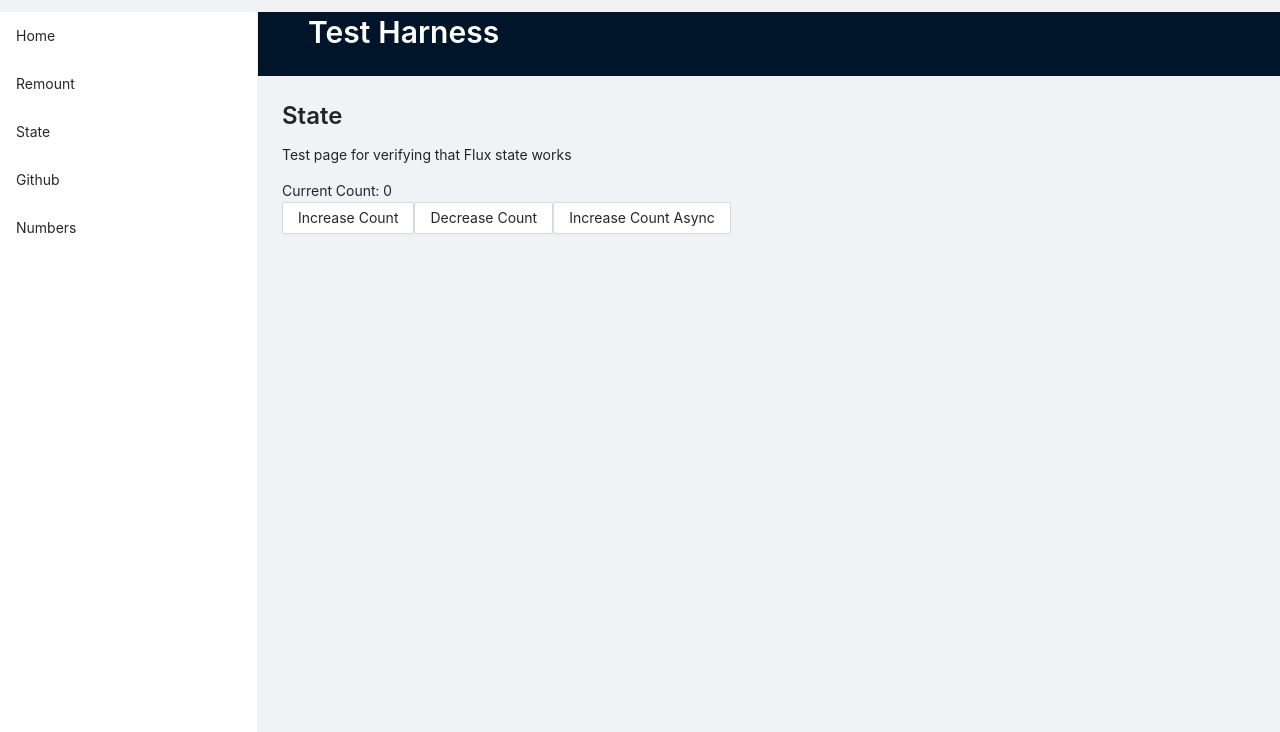
Test: State › Shows the error correctly
The image size is (1280, 732).
Check: the text with class "cy-count" shows "0", box [282,182,392,199]
What coordinates should you click on to do the following:
click the button with class "cy-inc-async"
I would click on:
 (642, 218)
Its box is [553,202,731,234].
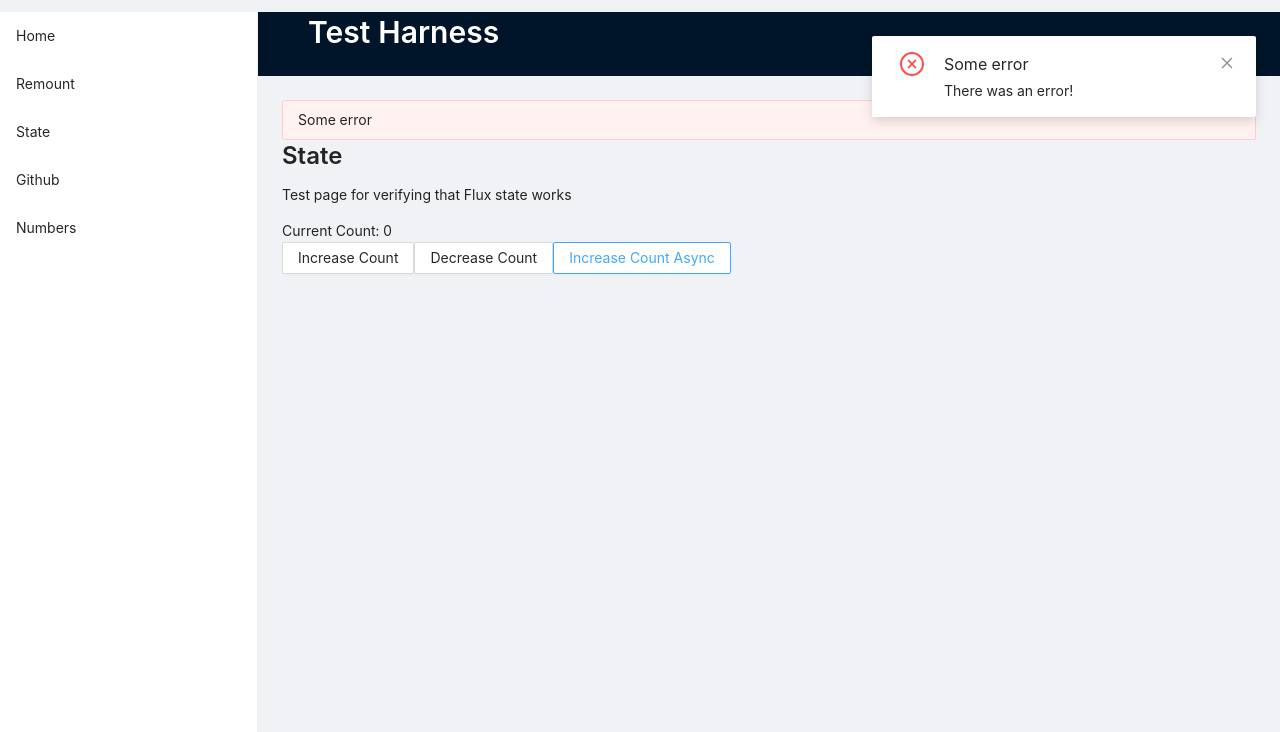
Check: the message "Some error" is shown, box [282,100,1256,140]
Check: the element showing "Some error There was an error!" is shown, box [872,36,1256,117]
